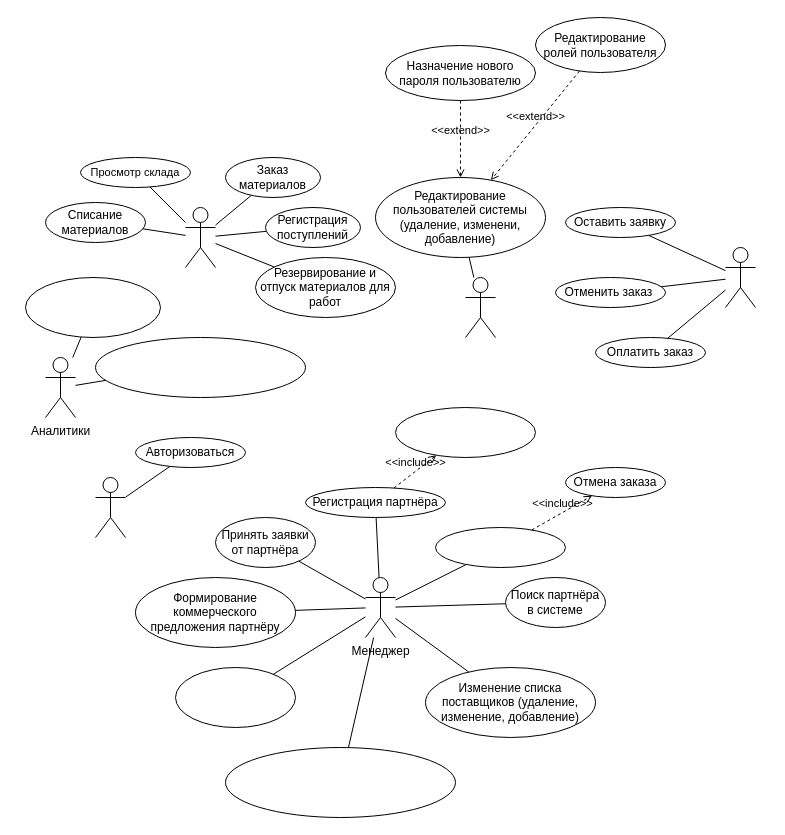
Some shapes in this 785 by 835 pixel diagram are drawn without their labels. The shapes that lost their labels are listed below. From the top down, each one's centre as x and y in pixels, then its label:
At point (200, 237): "Технолог".
At point (740, 277): "Партнёры".
At point (92, 307): "Формирование аналитики по партнёрам".
At point (480, 307): "Системны администратор".
At point (200, 367): "Формирование аналитики по материалам и их поставщикам".
At point (465, 432): "Изменение рейтинга партнёра".
At point (110, 507): "Неавторизованный пользователь".
At point (500, 547): "Формирование заказа".
At point (235, 697): "Предоставление прайс-листа новым партнёрам".
At point (340, 782): "Изменение прайс листа услуг (удаление, изменение, добавление)".
